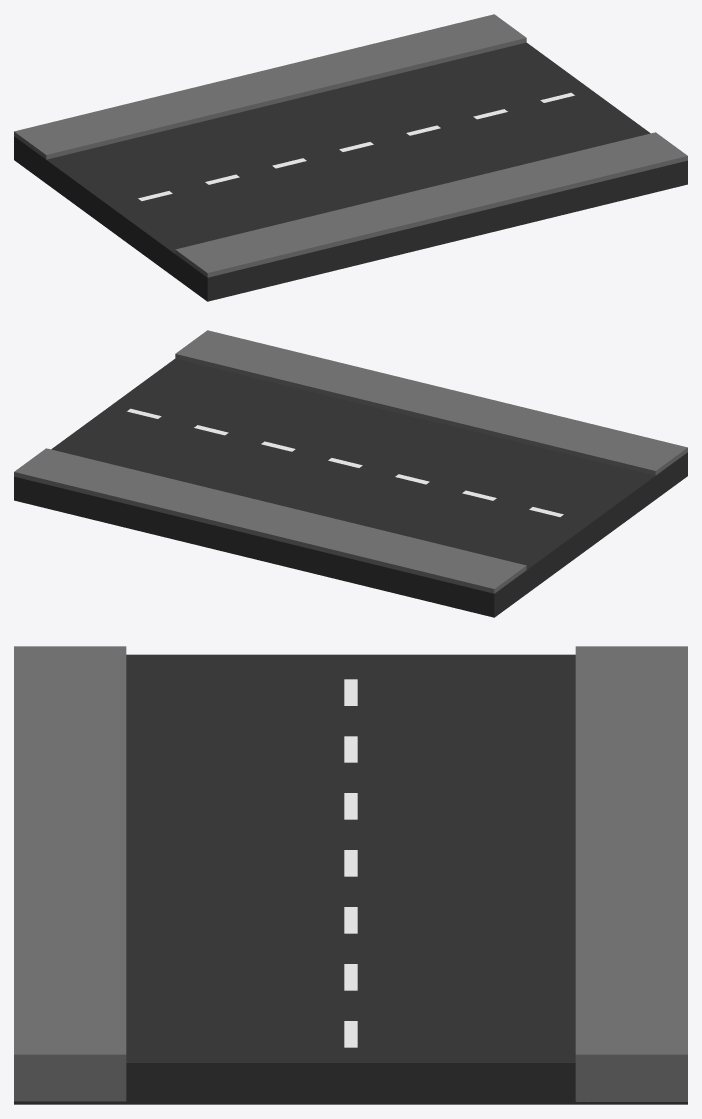
The model's file is Cargo_Road_21-5M_Dogrusal.fbx.
3 views of the same model, one above another, from view 1: azimuth 30°, elevation 25°; view 2: azimuth 150°, elevation 25°; view 3: azimuth 270°, elevation 25° (orthographic). The views are drawn at different scales.
Visible parts, largest first — view 1: Cargo_Road_21_5m_Dikey; view 2: Cargo_Road_21_5m_Dikey; view 3: Cargo_Road_21_5m_Dikey.
Part boxes in pixels (x1,y1,x2,y2): Cargo_Road_21_5m_Dikey: (14,14,687,301); Cargo_Road_21_5m_Dikey: (14,330,687,617); Cargo_Road_21_5m_Dikey: (14,646,687,1104).
Bounding box in the file's own units: 2150 × 123 × 1500.
